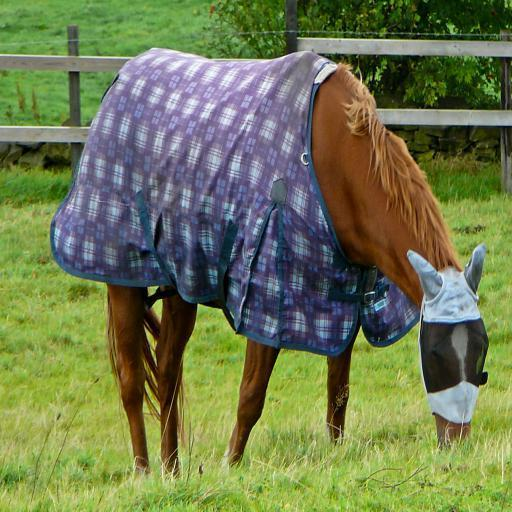horse: (104, 48, 492, 480)
